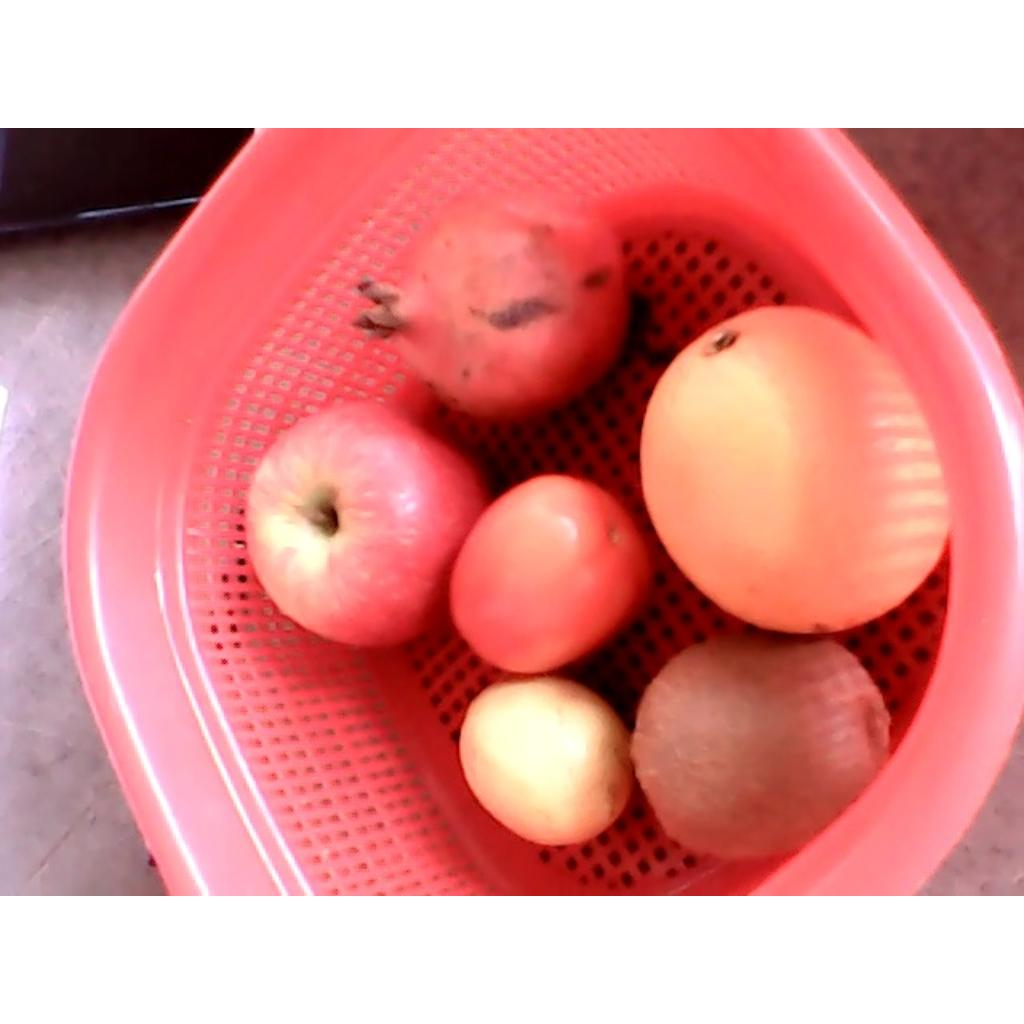apple: (243, 396, 486, 647)
kiwi: (632, 635, 892, 857)
lemon: (458, 672, 632, 846)
orange: (639, 305, 951, 632)
pomegranate: (353, 187, 625, 422)
tomato: (449, 474, 649, 674)
